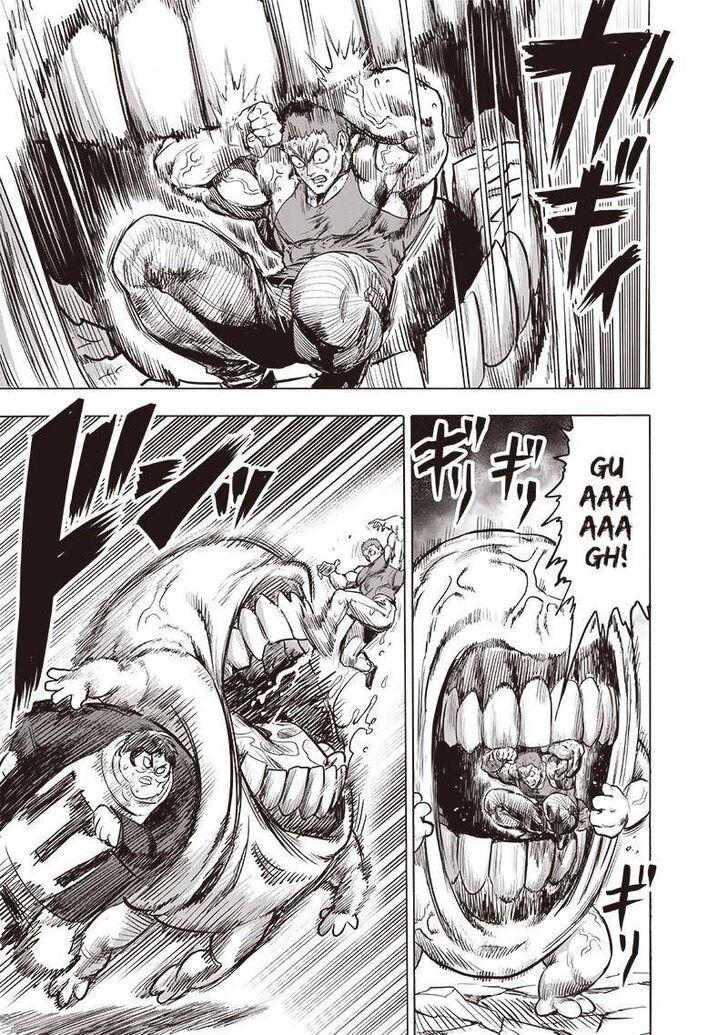Bubble: (540, 414, 653, 652)
